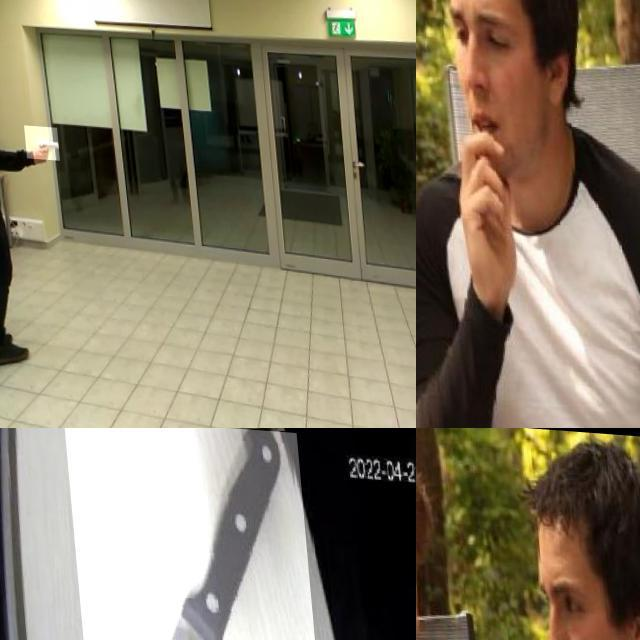-: (63, 428, 334, 640), (416, 136, 457, 359)
gun-knife-thesis - v11 Yolov5 augmented: (18, 124, 54, 158)
